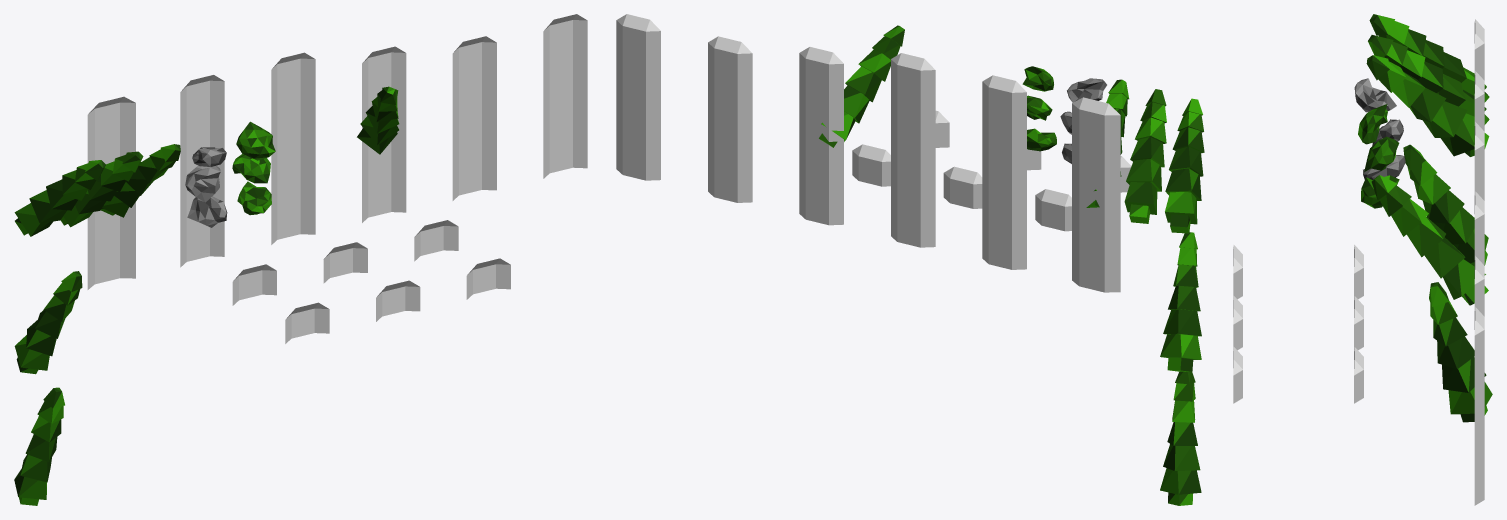
The model's file is treesNcamera.fbx.
The picture shows the model from 3 angles, left to right: view 1: azimuth 30°, elevation 25°; view 2: azimuth 150°, elevation 25°; view 3: azimuth 270°, elevation 25°; orthographic projection. The views are drawn at different scales.
Parts seen in each view (by area): view 1: Plane.001, Plane.003, Plane.004, Plane.005, Plane, Plane.002, Cube.003, Cube.002, Cube, Cube.004, Cube.005, Cube.001 (+11 smaller); view 2: Plane.005, Plane.001, Plane, Plane.002, Plane.004, Plane.003, Cube.002, Cube.004, Cube, Cube.003, Cube.001, Plane.007 (+4 smaller); view 3: Cube.001, Cube.005, Cube.003, Cube.002, Cube.004, Cube, Plane.004, Icosphere, Icosphere.004, Plane.001, Icosphere.005, Plane.002 (+12 smaller).
Part boxes in pixels (box(x1,y1,x2,y2)): Plane.001: box(271, 52, 315, 244); Plane.003: box(452, 36, 496, 200); Plane.004: box(543, 14, 587, 178); Plane.005: box(87, 96, 135, 289); Plane: box(180, 75, 224, 267); Plane.002: box(362, 46, 406, 222); Cube.003: box(14, 387, 64, 505); Cube.002: box(14, 271, 82, 374); Cube: box(14, 160, 105, 236); Cube.004: box(60, 151, 143, 227); Cube.005: box(101, 144, 180, 217); Cube.001: box(357, 86, 399, 154); Plane.005: box(1072, 97, 1120, 292); Plane.001: box(891, 53, 935, 247); Plane: box(982, 75, 1026, 269); Plane.002: box(799, 47, 843, 225); Plane.004: box(616, 14, 660, 180); Plane.003: box(708, 36, 752, 202); Cube.002: box(1160, 232, 1201, 371); Cube.004: box(1124, 89, 1166, 223); Cube: box(1165, 98, 1204, 233); Cube.003: box(1160, 371, 1201, 505); Cube.001: box(819, 25, 904, 147); Plane.007: box(943, 166, 982, 208); Cube.001: box(1371, 175, 1488, 305); Cube.005: box(1366, 55, 1489, 156); Cube.003: box(1429, 282, 1492, 422); Cube.002: box(1403, 144, 1488, 266); Cube.004: box(1368, 35, 1489, 124); Cube: box(1369, 14, 1489, 102); Plane.004: box(1474, 307, 1484, 505); Icosphere: box(1354, 78, 1396, 112); Icosphere.004: box(1364, 136, 1399, 172); Plane.001: box(1474, 122, 1484, 200); Icosphere.005: box(1358, 104, 1387, 144); Plane.002: box(1474, 191, 1484, 265).
Size of the model in its own units: 634 by 403 by 215.
